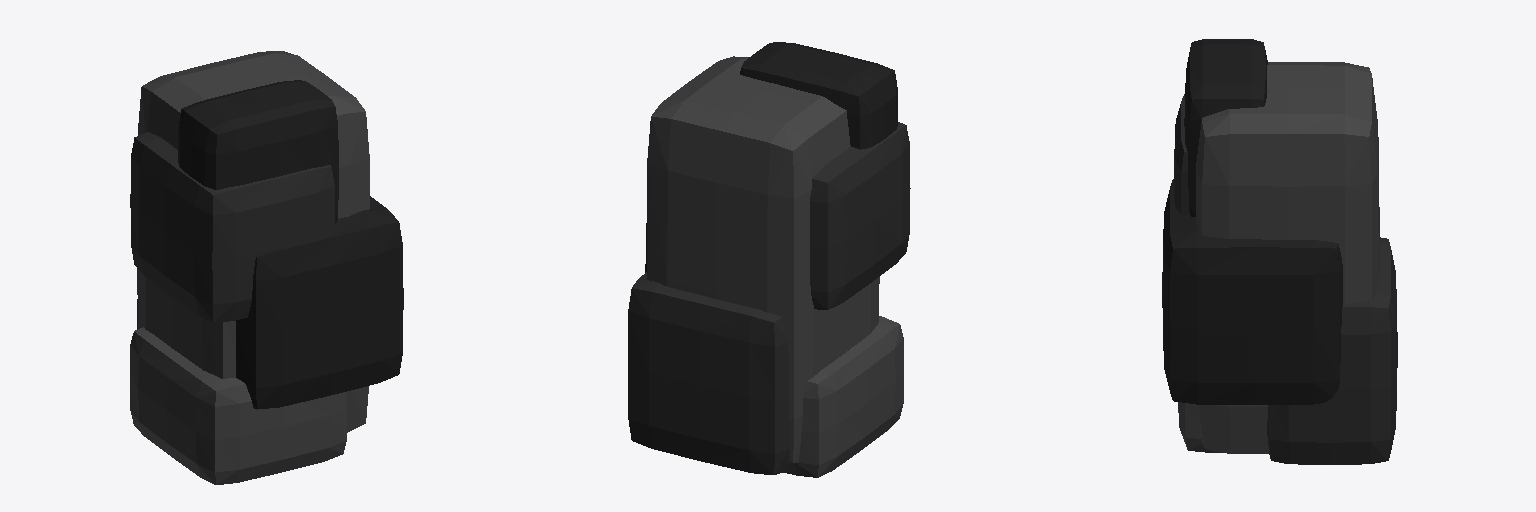
File: RockPiece.obj
3 views of the same model, side by side, from view 1: azimuth 30°, elevation 25°; view 2: azimuth 150°, elevation 25°; view 3: azimuth 270°, elevation 25° (orthographic).
Parts seen in each view (by area): view 1: Cube.005; view 2: Cube.005; view 3: Cube.005.
Boxes of the visible parts, <box> form: Cube.005: <box>130,51,403,484</box>; Cube.005: <box>628,42,910,477</box>; Cube.005: <box>1162,39,1397,464</box>.
Bounding box in the file's own units: 2.44 × 4.26 × 2.52.